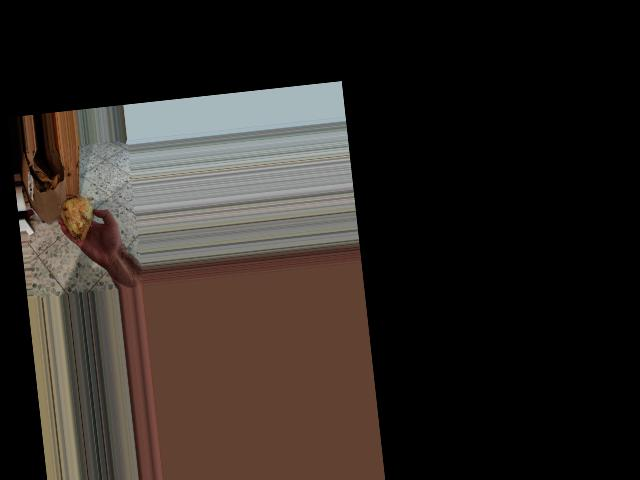onion: (57, 193, 98, 245)
